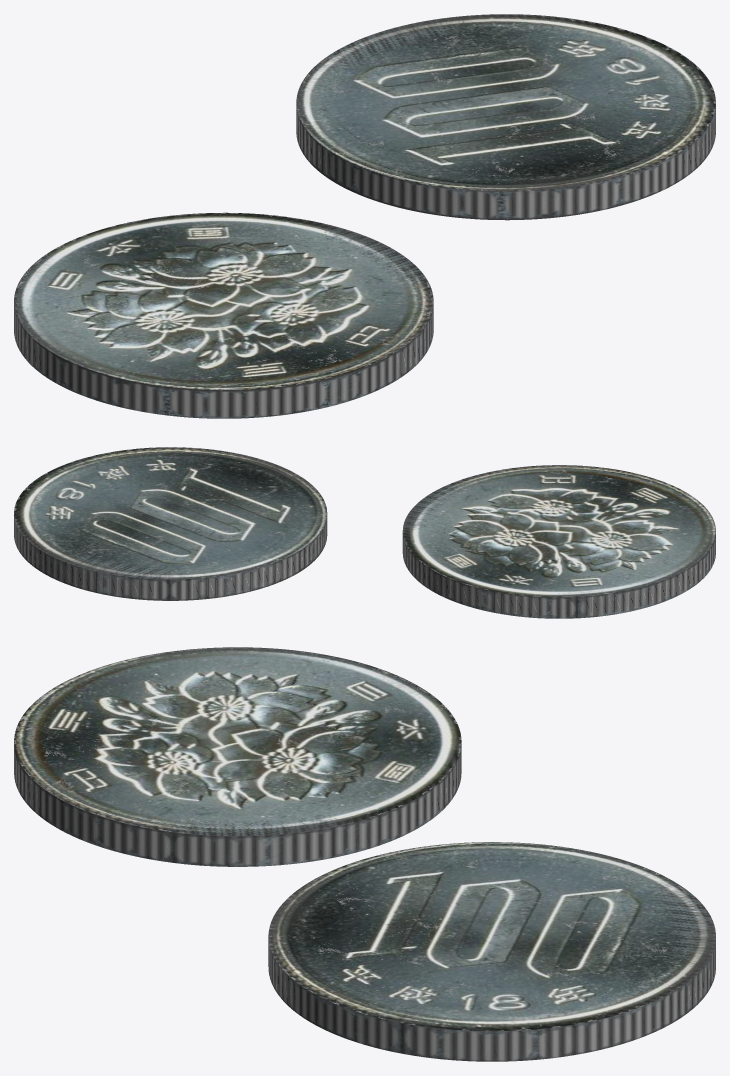
Rendered from 100yen.obj.
3 renders of one model, top to bottom at view 1: azimuth 30°, elevation 25°; view 2: azimuth 150°, elevation 25°; view 3: azimuth 270°, elevation 25°, orthographic. The views are drawn at different scales.
Visible parts, largest first — view 1: Cylinder.002, Cylinder.001; view 2: Cylinder.001, Cylinder.002; view 3: Cylinder.002, Cylinder.001.
Boxes of the visible parts, <box> form: Cylinder.002: <box>296,14,715,220</box>; Cylinder.001: <box>14,212,433,418</box>; Cylinder.001: <box>402,465,715,618</box>; Cylinder.002: <box>14,447,327,600</box>; Cylinder.002: <box>268,842,715,1061</box>; Cylinder.001: <box>14,647,461,866</box>.
Size of the model in its own units: 0.0476 by 0.00249 by 0.0354.
